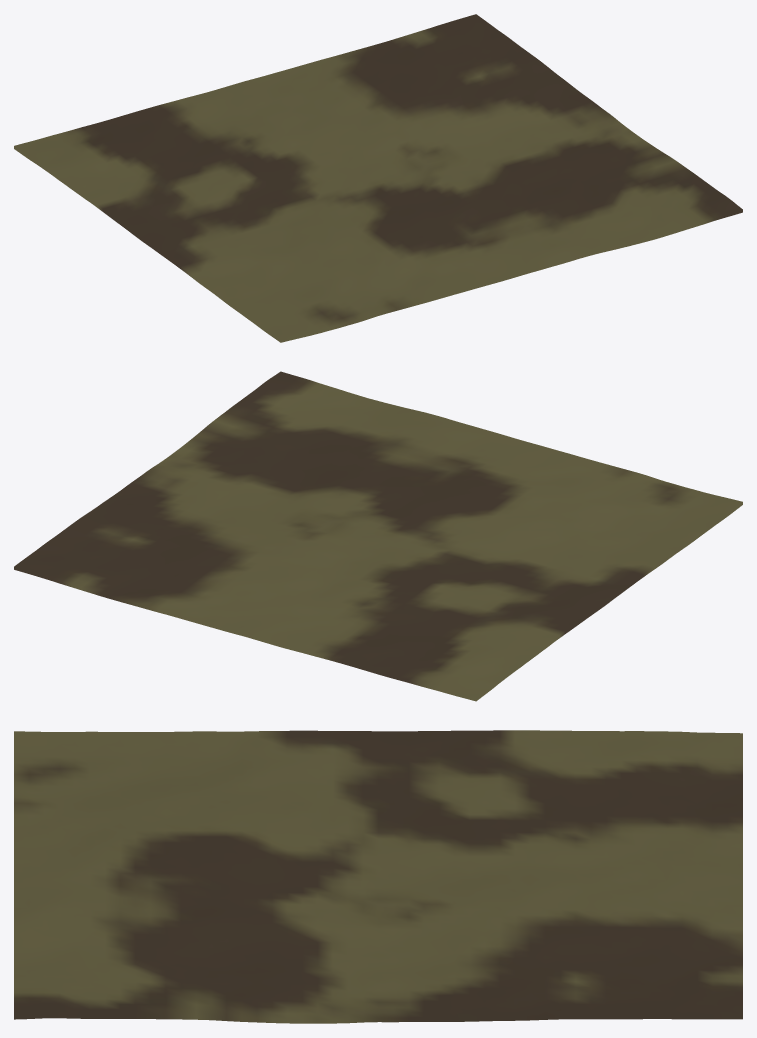
File: land_m_14_03.glb
3 renders of one model, top to bottom at view 1: azimuth 30°, elevation 25°; view 2: azimuth 150°, elevation 25°; view 3: azimuth 270°, elevation 25°, orthographic. The views are drawn at different scales.
Parts seen in each view (by area): view 1: land_m_14_03; view 2: land_m_14_03; view 3: land_m_14_03.
Part boxes in pixels (bbox=[...]): land_m_14_03: bbox=[14, 14, 742, 342]; land_m_14_03: bbox=[14, 371, 742, 701]; land_m_14_03: bbox=[14, 730, 742, 1023].
Bounding box in the file's own units: 960 × 45.44 × 960.
